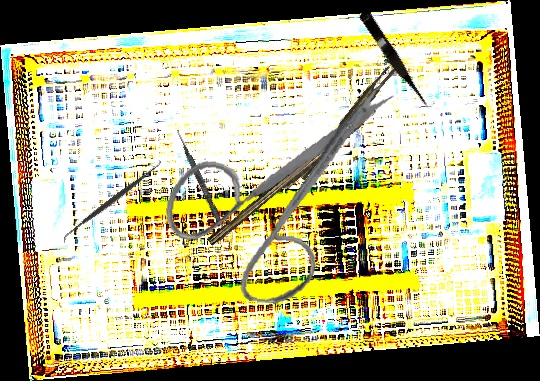Iris Scissors: (154, 57, 399, 316)
Micro Scissor: (355, 8, 434, 114)
Scalpel Handle: (206, 102, 380, 252)
Spatula Surgical: (57, 157, 167, 245), (172, 129, 237, 250)
Tissue Forceps: (292, 63, 401, 181)
